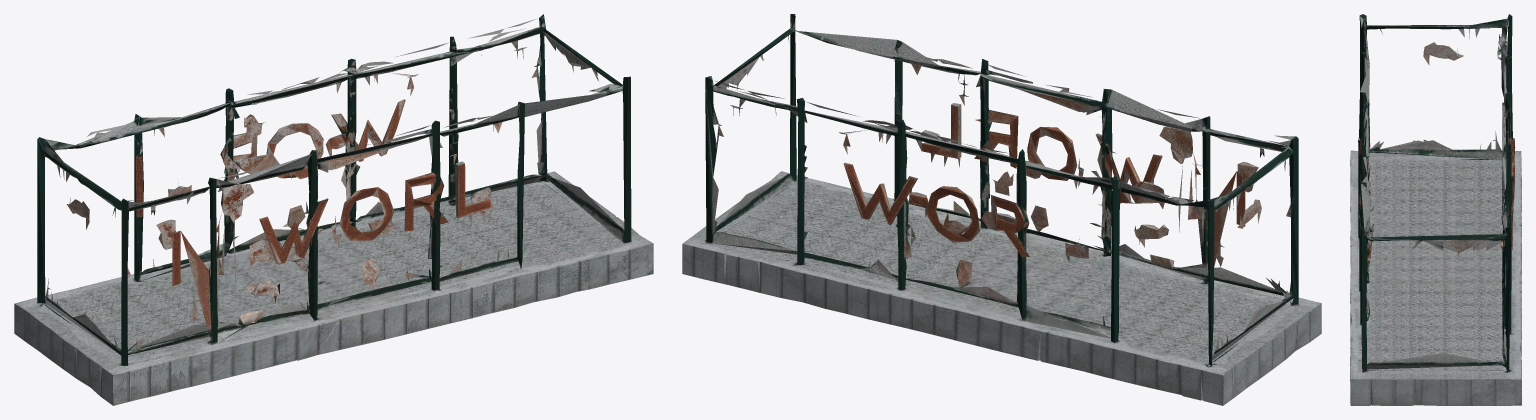
The model's file is military_chainlink_fence.glb.
The picture shows the model from 3 angles, left to right: view 1: azimuth 30°, elevation 25°; view 2: azimuth 150°, elevation 25°; view 3: azimuth 270°, elevation 25°; orthographic projection. The views are drawn at different scales.
Bounding box in the file's own units: 1.9 × 0.6689 × 0.6037.
1 material, 1 textured.
